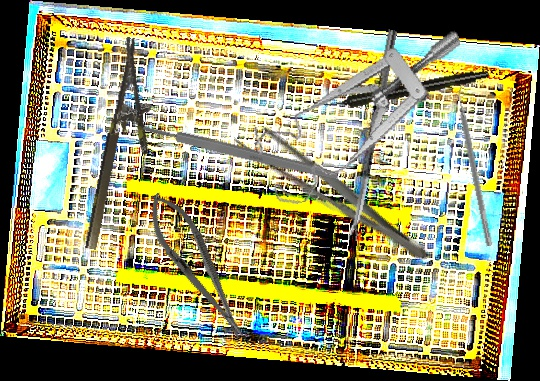Dressing Forceps: (230, 115, 438, 273)
Handpiece: (322, 67, 490, 113)
Needle Holder: (136, 184, 258, 349), (82, 36, 170, 257)
Scalpel Handle: (139, 121, 341, 183)
Spatula Surgical: (451, 82, 500, 247)
Speculum: (239, 29, 489, 211)
Surgical Spoon: (346, 29, 398, 241)
